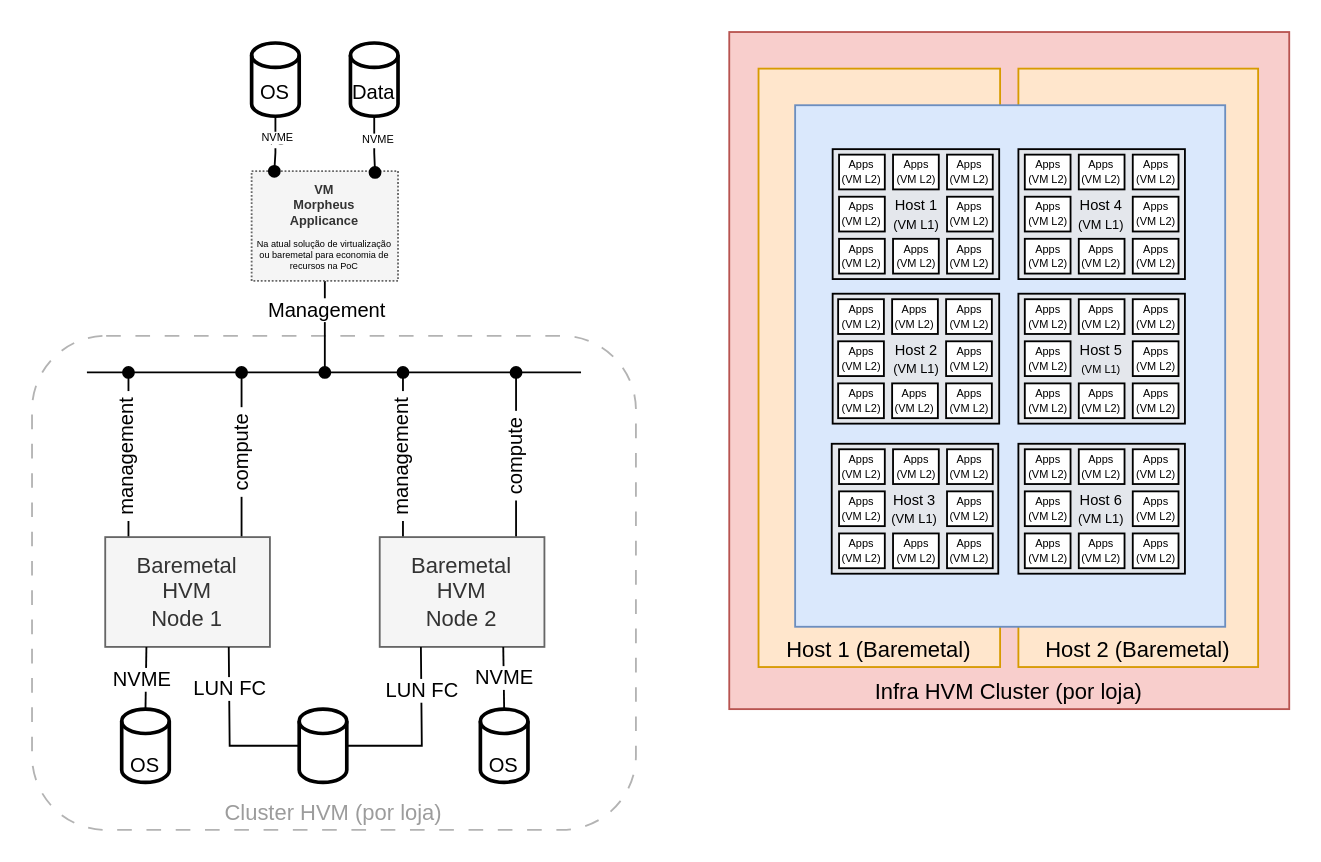
This 1321x862 diagram has some shape labels left out. Each missing label, with the centre of its shape:
Operational HVM Cluster: [1009,365]
VM: [322,744]
